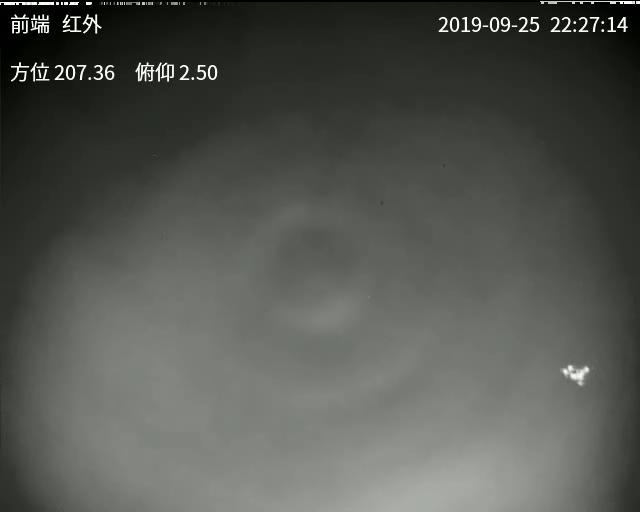uav: (554, 360, 590, 388)
